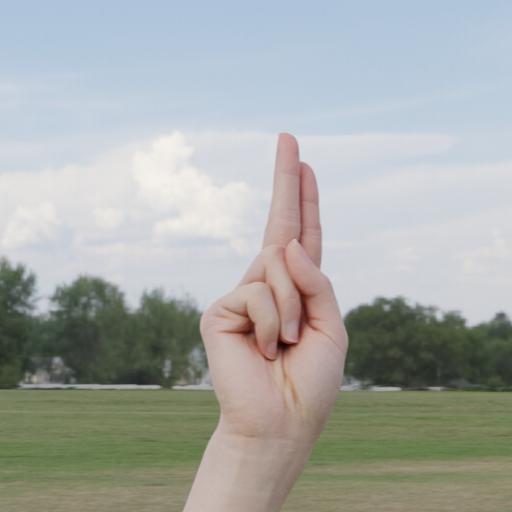U: (196, 132, 357, 466)
